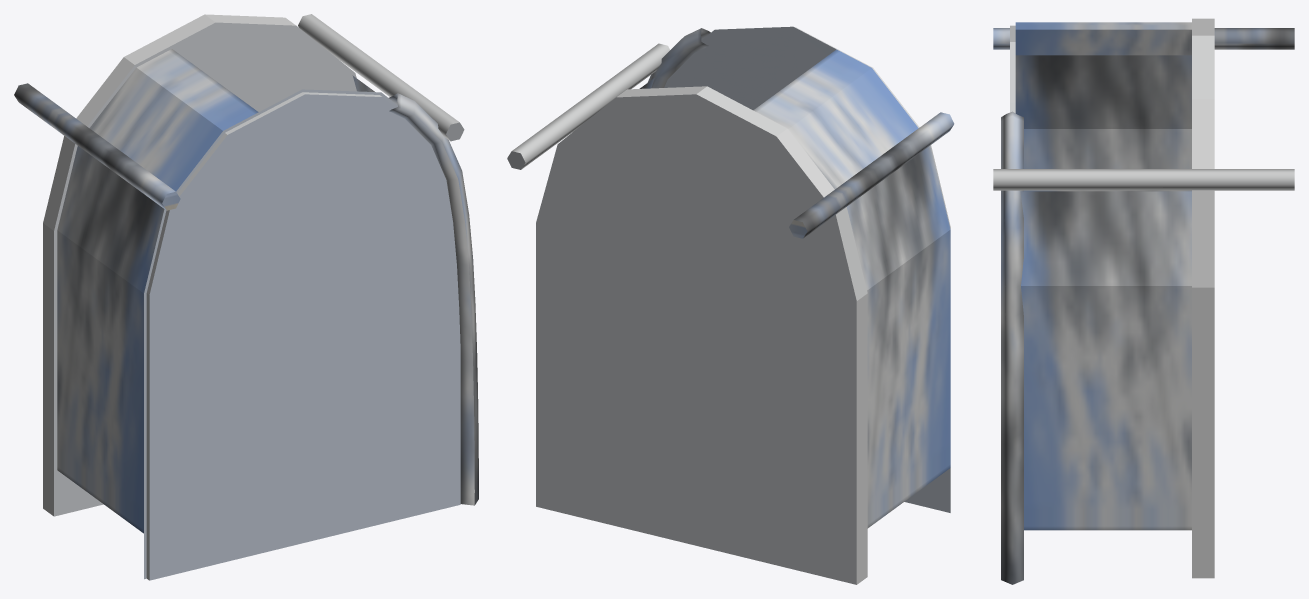
Rendered from section-2.obj.
The picture shows the model from 3 angles, left to right: view 1: azimuth 30°, elevation 25°; view 2: azimuth 150°, elevation 25°; view 3: azimuth 270°, elevation 25°; orthographic projection. The views are drawn at different scales.
Size of the model in its own units: 0.6343 by 0.8015 by 0.47.
